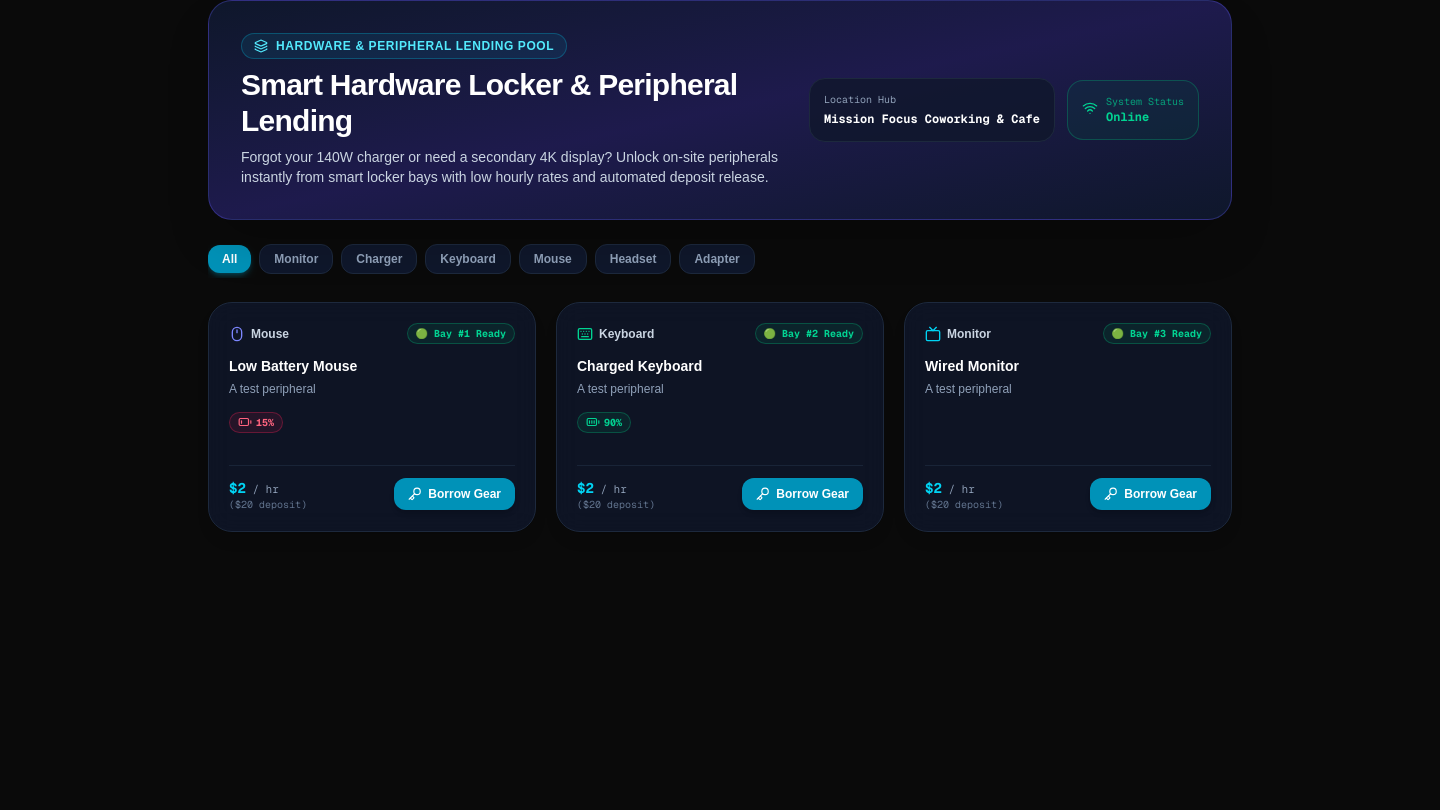
Test: PeripheralLockerGrid battery status › lets the user cancel the warning without renting
expect the heading "Low Battery Mouse" is shown: met, box left=229, top=358, right=357, bottom=374
Click the button "Borrow Gear" below "15" at (455, 494), box left=394, top=478, right=515, bottom=510
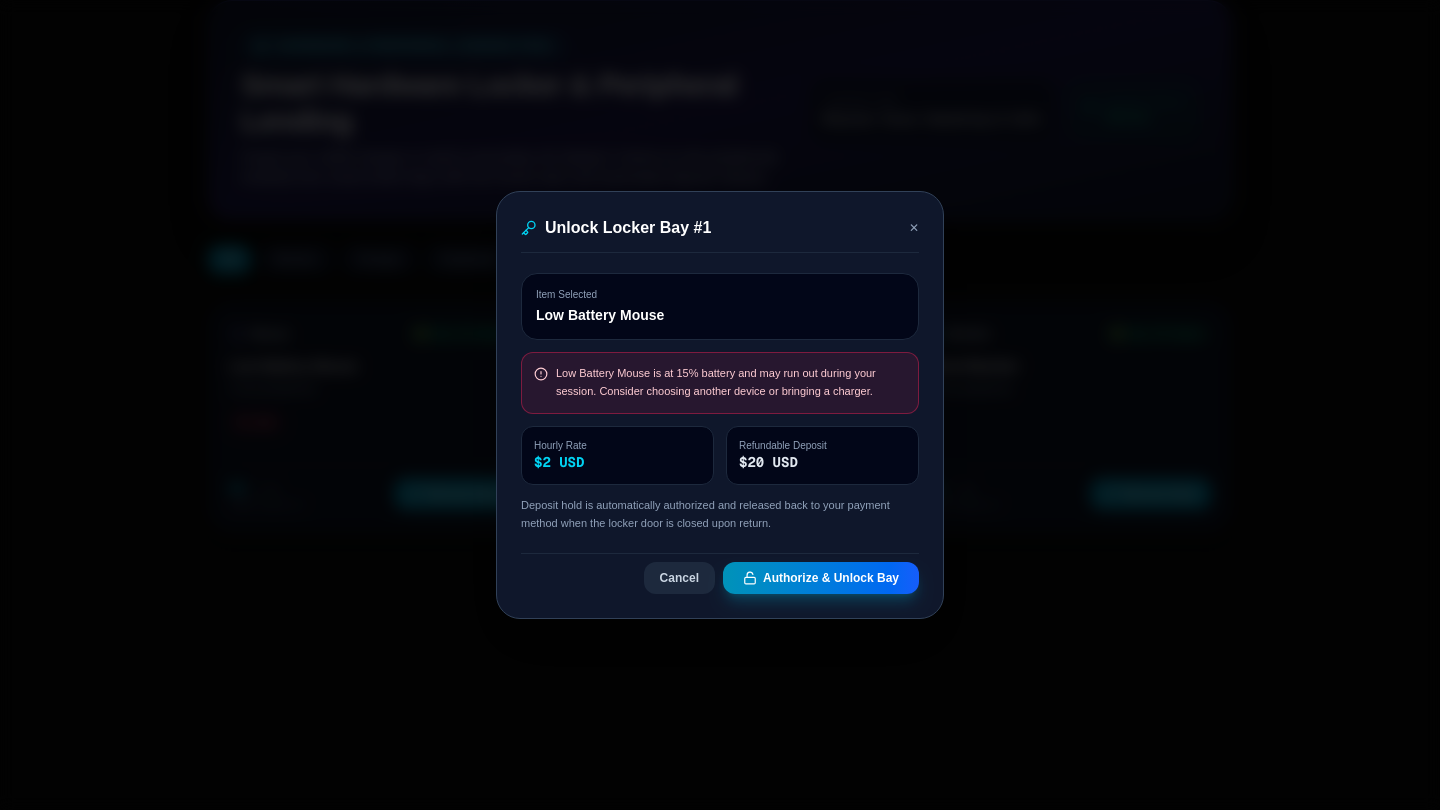
expect the message is shown: met, box left=521, top=352, right=919, bottom=414
Click the button "Cancel" at (679, 578), box left=644, top=562, right=715, bottom=594
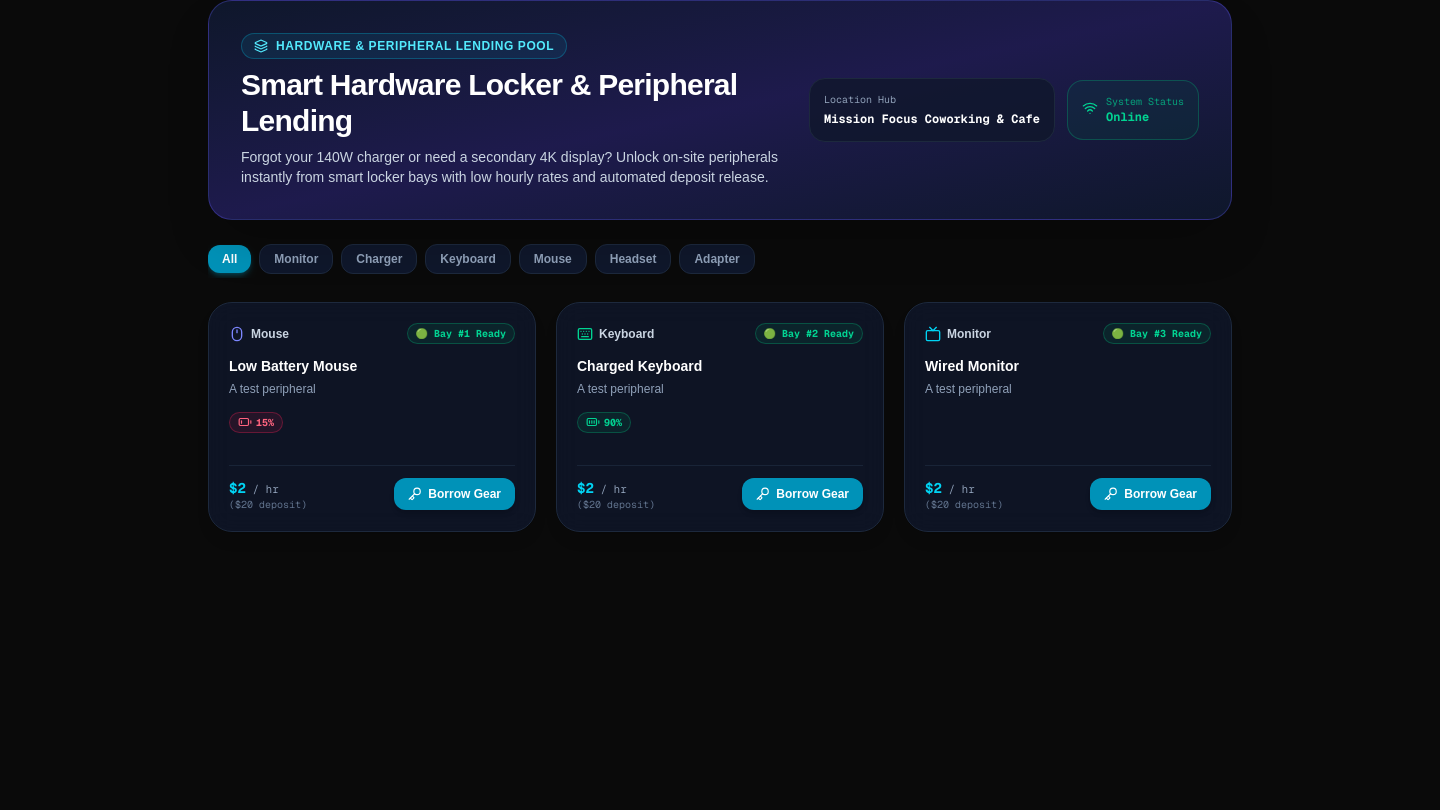
expect the message is gone: met
